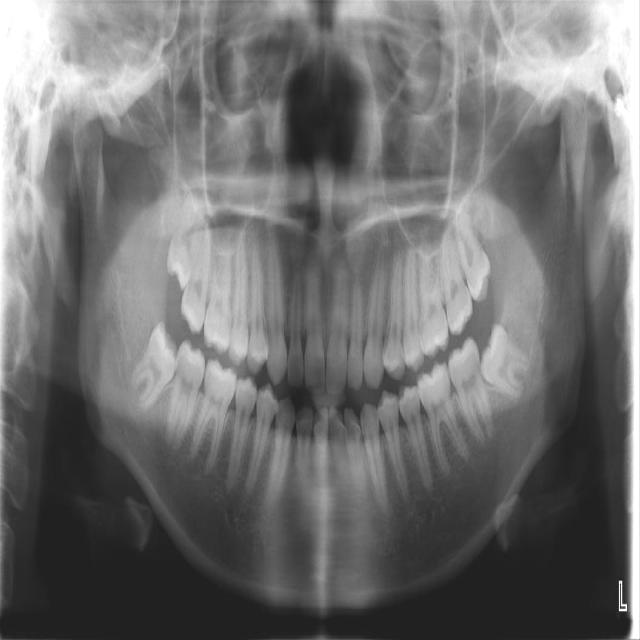impacted tooth: (127, 322, 179, 413), (480, 324, 535, 399), (167, 193, 205, 288)
